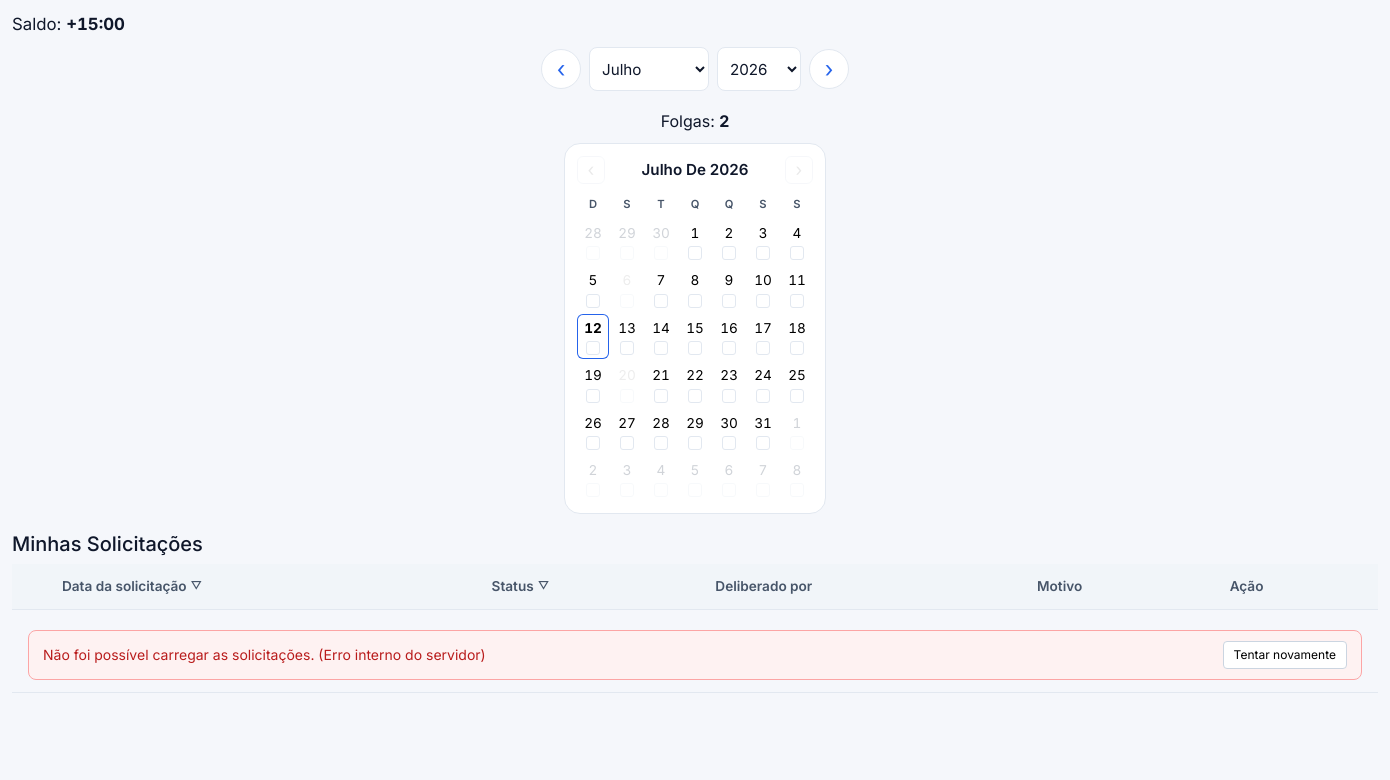
Test case: BancoHorasPessoalComponent › render dos estados de erro e de recarga › a tabela de solicitações: o clique no retry refaz o load() e repovoa a lista
The image size is (1390, 780).
Click the button "Tentar novamente" at (1285, 655), box [1223,641,1347,669]
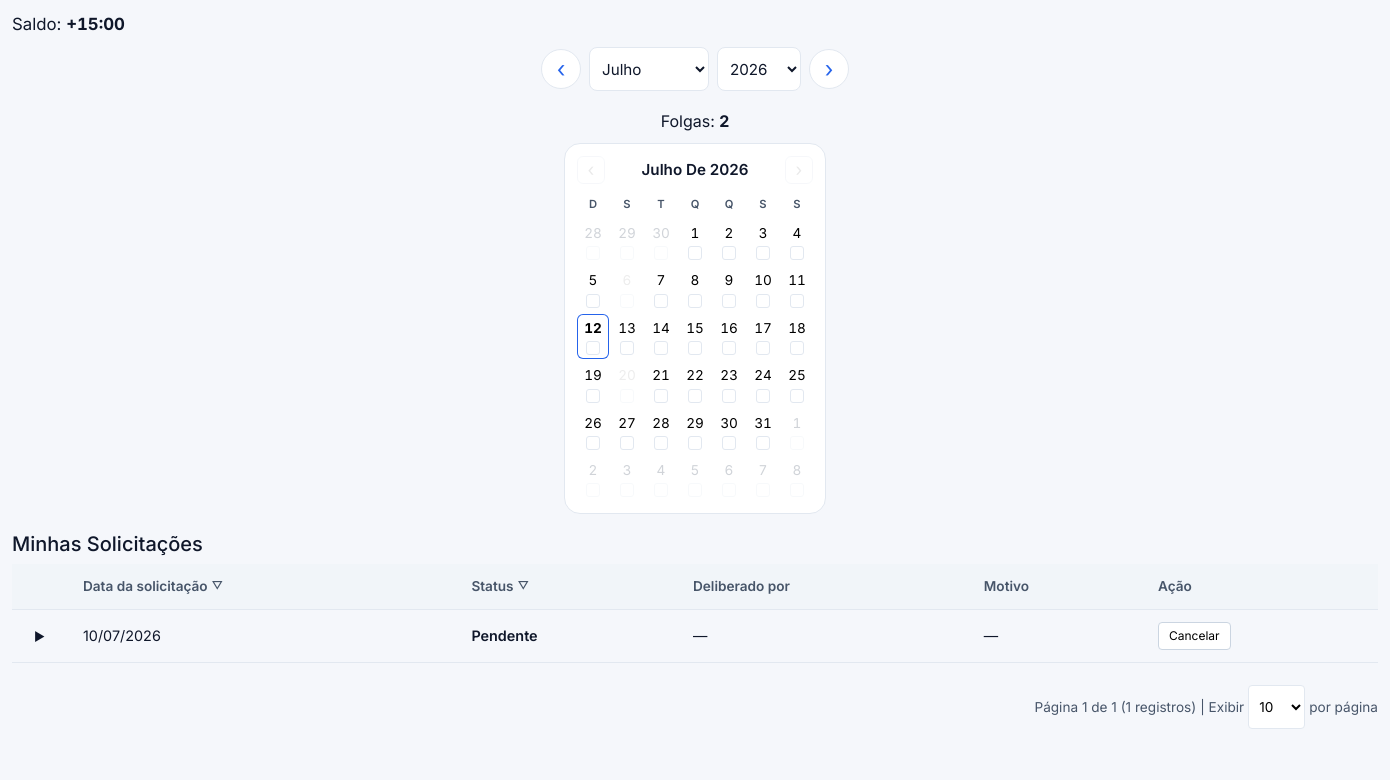
Expected: the table shows "10/07/2026", [83,627,161,644]
